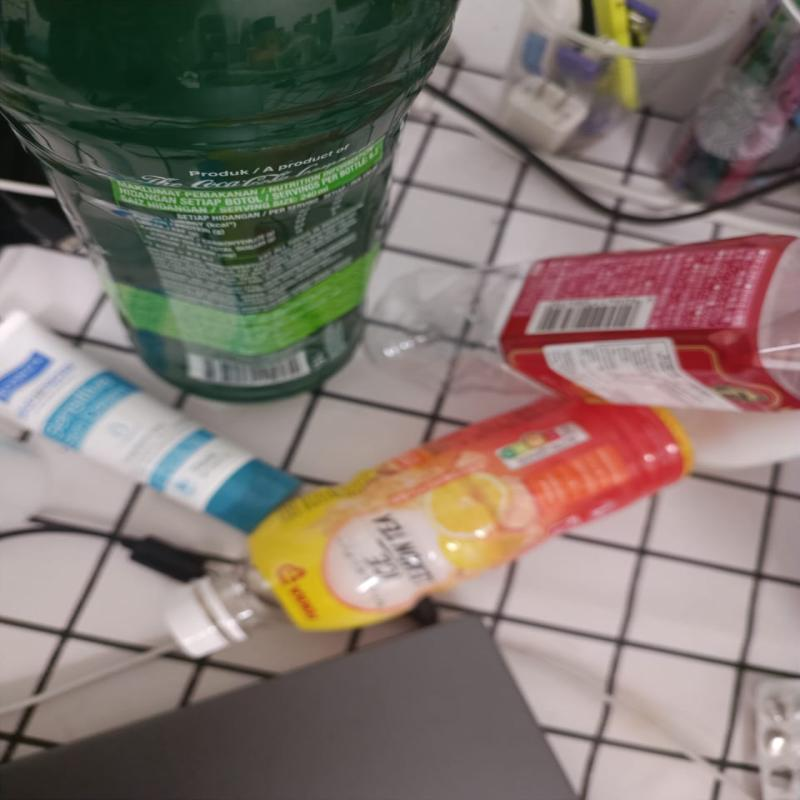botella: (0, 0, 452, 401), (157, 394, 702, 682), (362, 236, 800, 415)
